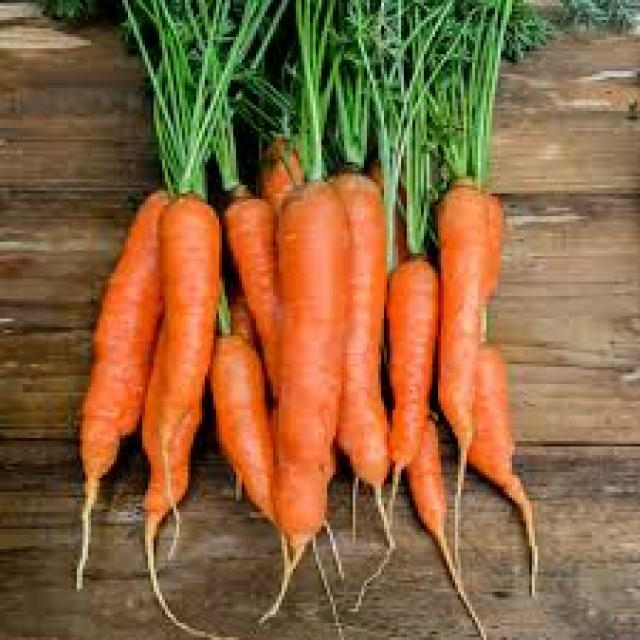Stale_Carrot: (440, 181, 545, 542)
